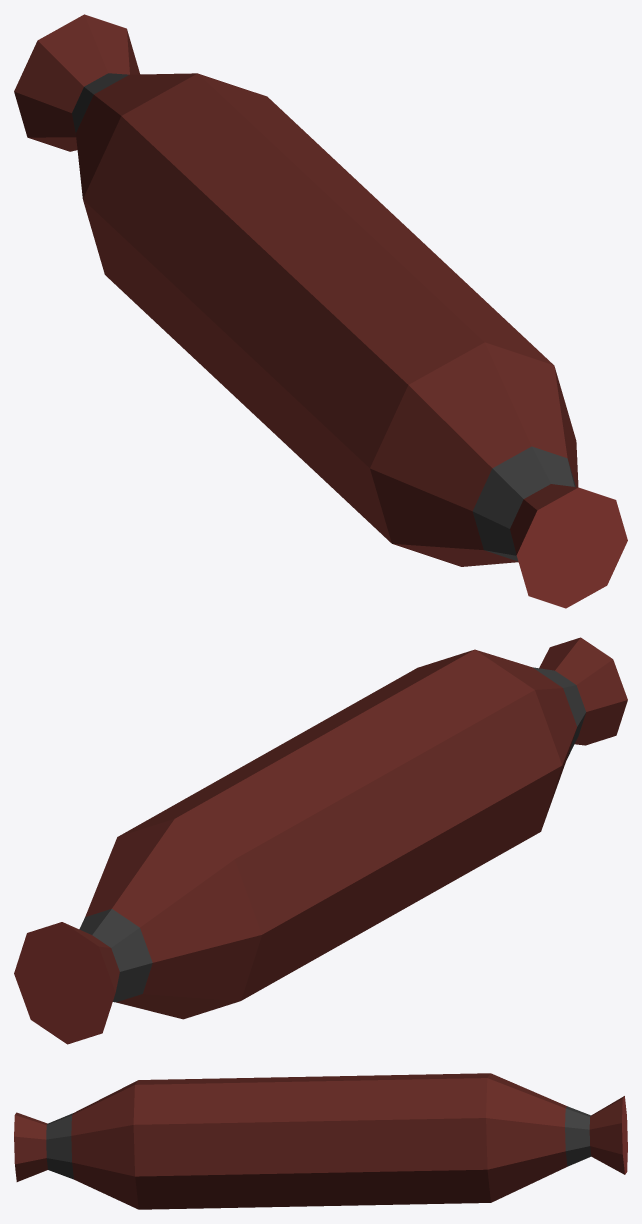
The model's file is Sausage_3.fbx.
The picture shows the model from 3 angles, top to bottom: view 1: azimuth 30°, elevation 25°; view 2: azimuth 150°, elevation 25°; view 3: azimuth 270°, elevation 25°; orthographic projection. The views are drawn at different scales.
Parts seen in each view (by area): view 1: Sausage_3; view 2: Sausage_3; view 3: Sausage_3.
Boxes of the visible parts, left/top/right/bottom form: Sausage_3: left=14, top=14, right=627, bottom=608; Sausage_3: left=14, top=637, right=627, bottom=1044; Sausage_3: left=14, top=1073, right=627, bottom=1209.
Size of the model in its own units: 16.56 by 17.27 by 68.67.
